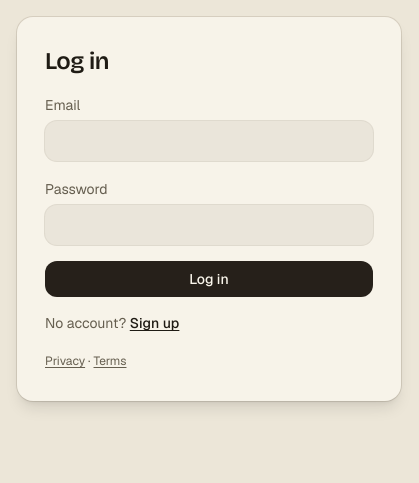
Test case: LoginForm › tells a rate-limited login to wait, not that the server is unreachable
In the field labelled "Email": (209, 141) left=45, top=121, right=373, bottom=161, type "ann@example.com"
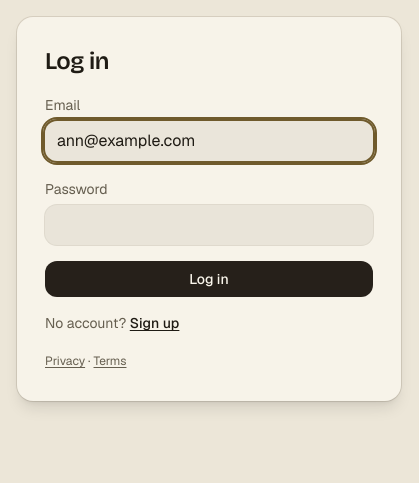
In the password field labelled "Password": (209, 225) left=45, top=205, right=373, bottom=245, type "correct-horse"
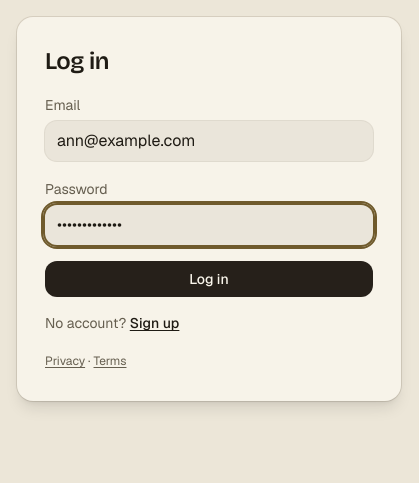
Click the button "Log in": (209, 279) left=45, top=261, right=373, bottom=297
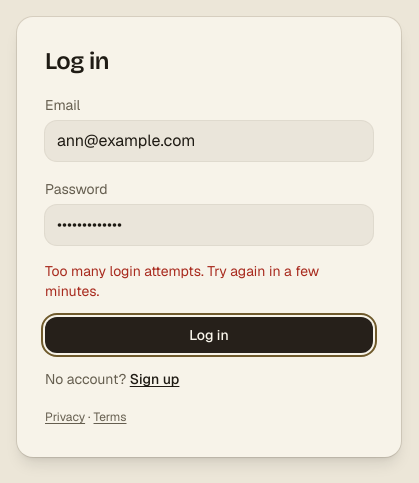
Expected: the message shows "Too many", left=45, top=262, right=319, bottom=300
